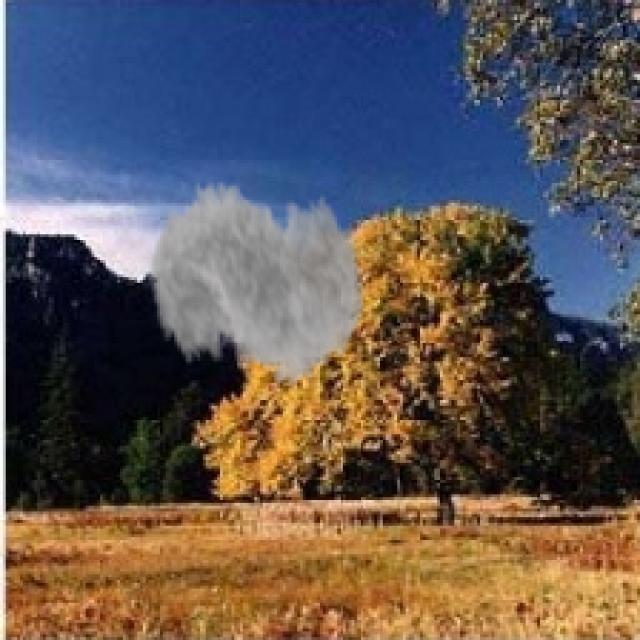smoke: (148, 154, 366, 406)
